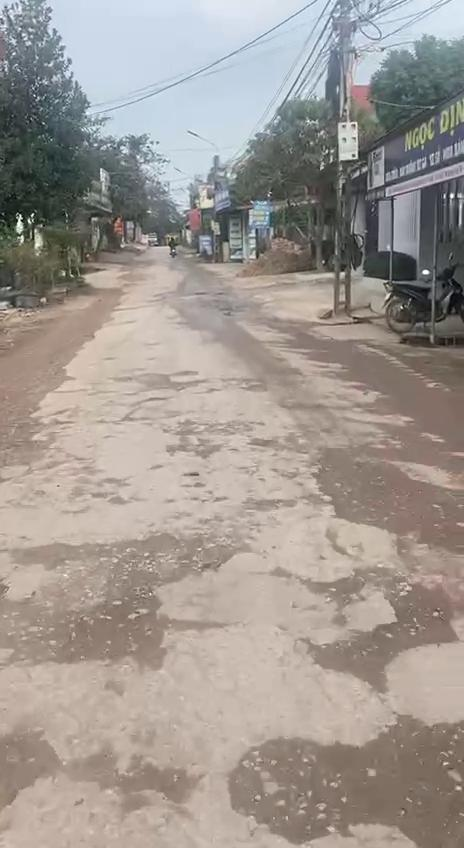pothole: (0, 522, 259, 666), (225, 708, 464, 848), (0, 711, 204, 848), (294, 568, 464, 697), (303, 446, 464, 560), (0, 412, 61, 467), (168, 415, 243, 459), (132, 366, 205, 392), (215, 373, 273, 393)
